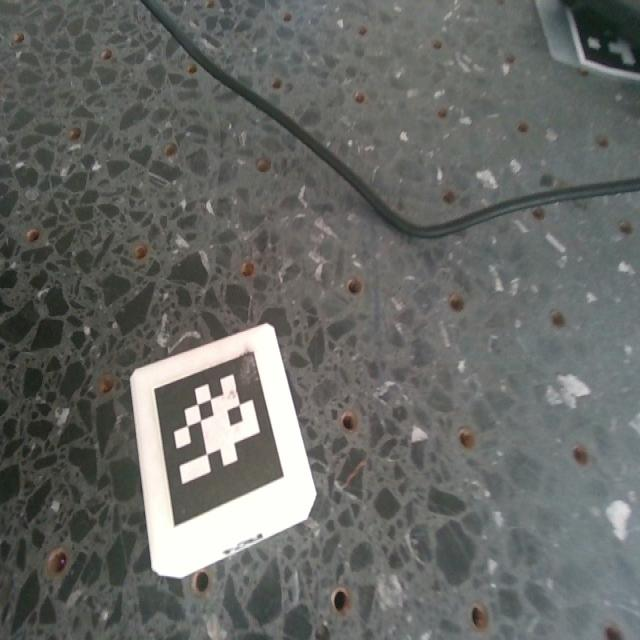Cube: (129, 325, 318, 580)
